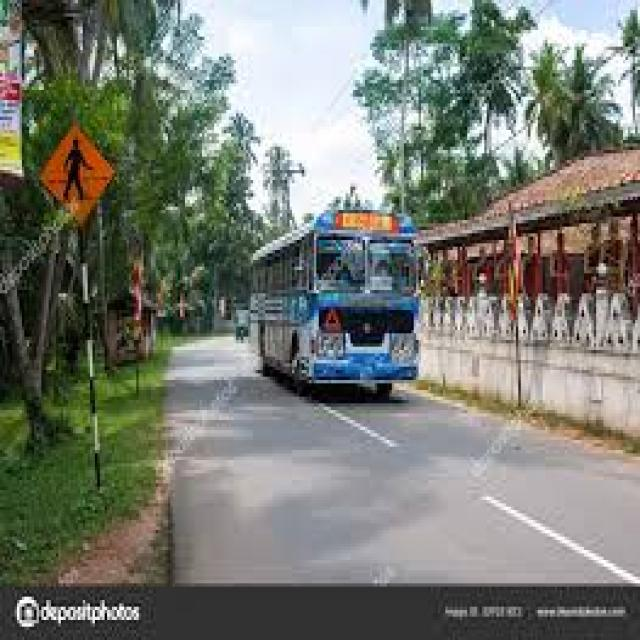bus: (251, 210, 416, 393)
three wheeler: (236, 310, 248, 340)
